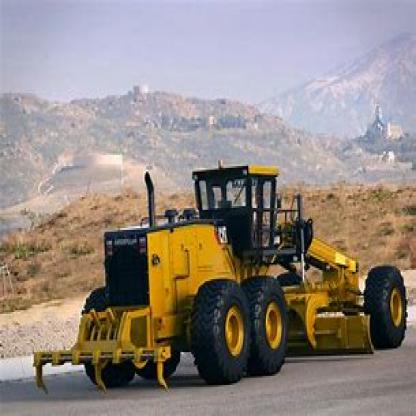bull_dozer/loader/grader: (38, 150, 413, 387)
